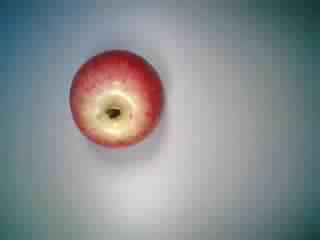apple: (64, 49, 170, 148)
